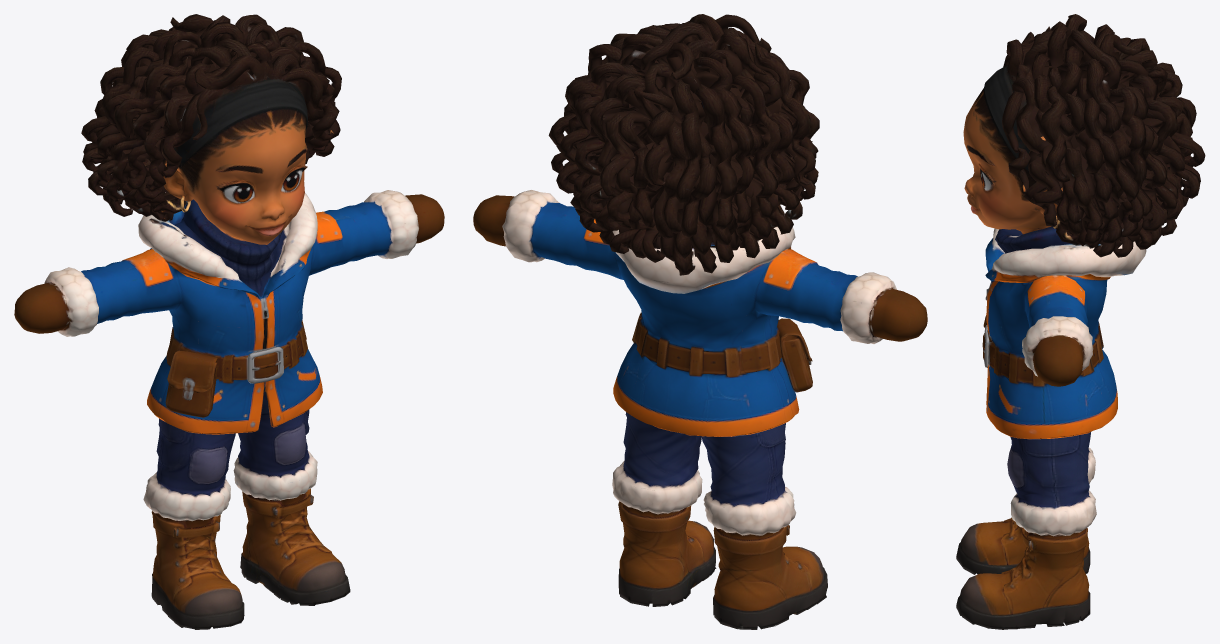
File: raw.glb
The picture shows the model from 3 angles, left to right: view 1: azimuth 30°, elevation 25°; view 2: azimuth 150°, elevation 25°; view 3: azimuth 270°, elevation 25°; orthographic projection. The views are drawn at different scales.
Size of the model in its own units: 0.7544 by 0.9502 by 0.3828.
Materials: 1 (1 with a texture image).
